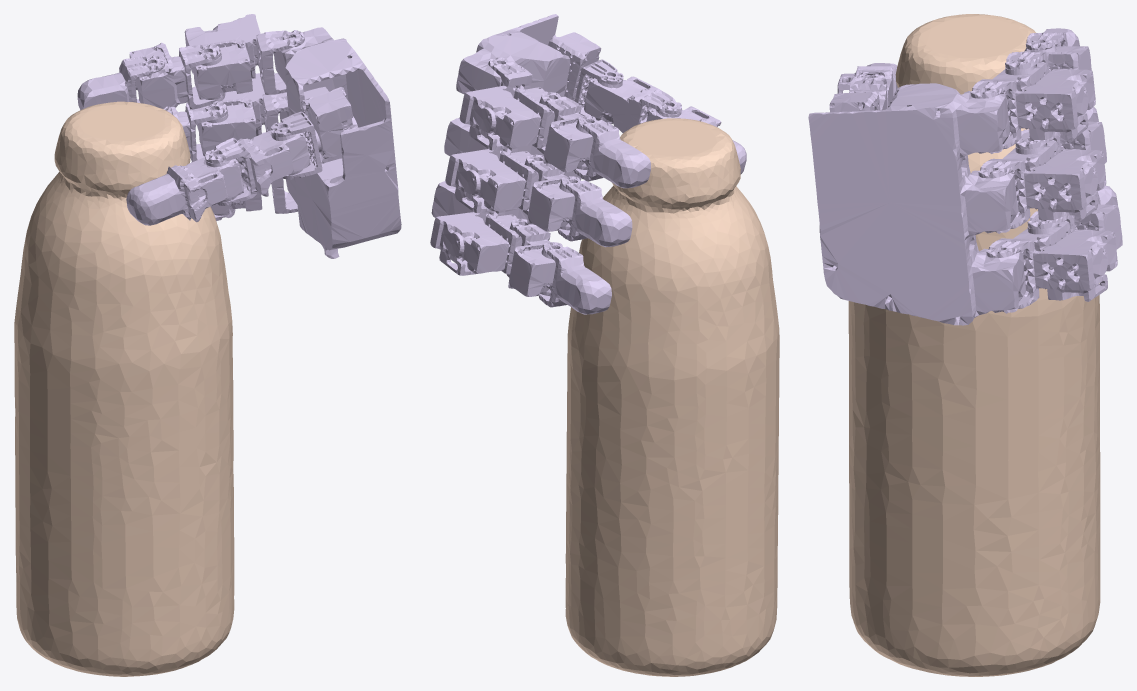
Rendered from 16656070ecb582-closed.glb.
3 renders of one model, left to right at view 1: azimuth 30°, elevation 25°; view 2: azimuth 150°, elevation 25°; view 3: azimuth 270°, elevation 25°, orthographic. The views are drawn at different scales.
Visible parts, largest first — view 1: world, LEAP_hand; view 2: world, LEAP_hand; view 3: world, LEAP_hand.
Boxes of the visible parts, left/top/right/bottom form: world: left=14, top=101, right=234, bottom=676; LEAP_hand: left=77, top=14, right=401, bottom=258; world: left=565, top=118, right=779, bottom=676; LEAP_hand: left=430, top=14, right=746, bottom=314; world: left=848, top=14, right=1100, bottom=676; LEAP_hand: left=808, top=28, right=1122, bottom=325.
Size of the model in its own units: 0.2379 by 0.3874 by 0.1708.
